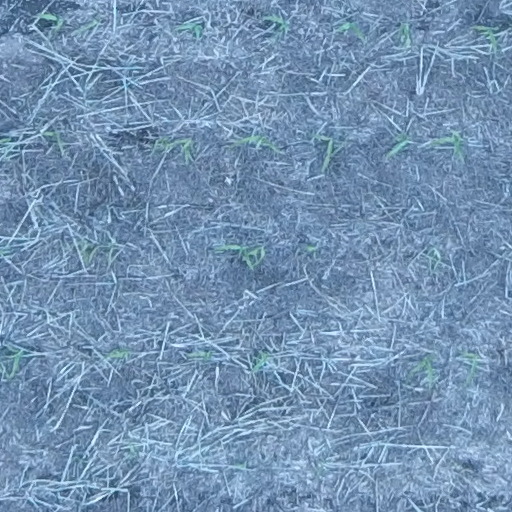planta: (214, 243, 253, 270), (430, 130, 465, 159), (311, 132, 334, 171), (408, 355, 436, 385), (460, 349, 479, 387), (238, 133, 278, 151), (162, 139, 192, 162), (387, 132, 412, 157), (475, 24, 496, 51), (38, 11, 64, 32), (7, 346, 22, 380), (246, 245, 267, 269), (338, 21, 366, 39), (250, 349, 271, 373), (43, 130, 63, 154), (177, 21, 204, 38), (265, 14, 289, 32), (103, 346, 132, 358), (398, 22, 410, 49), (77, 18, 100, 32), (188, 351, 213, 361)
